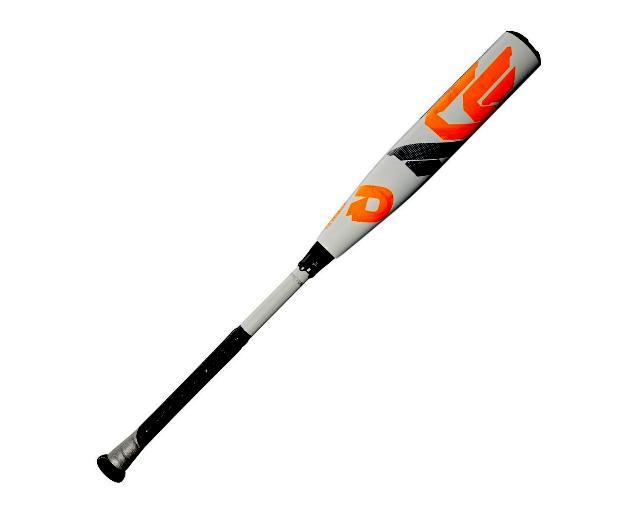baseball bat: (100, 31, 542, 485)
